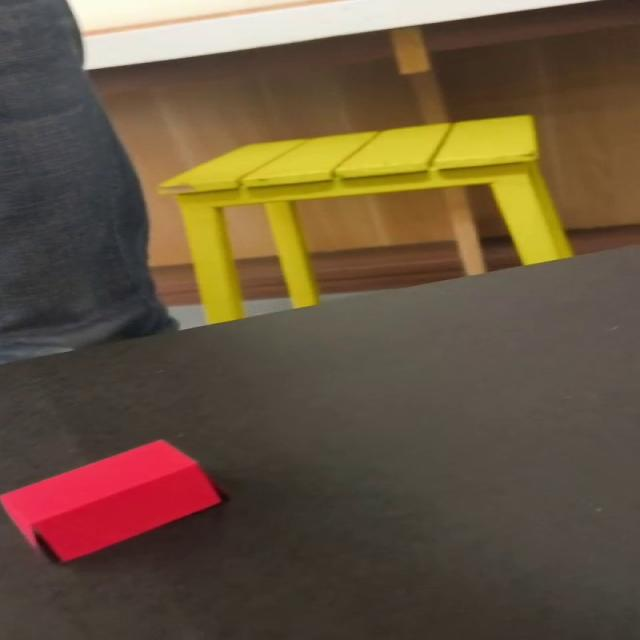red block: (0, 438, 223, 563)
